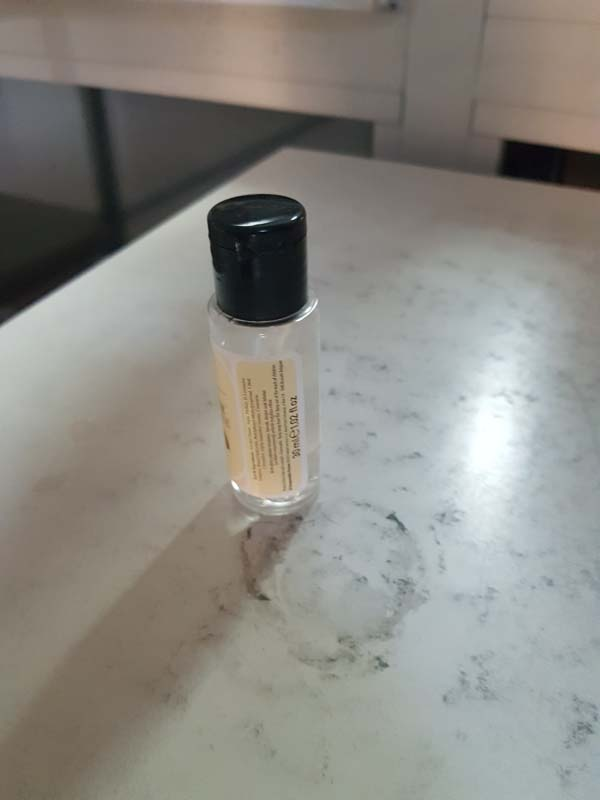redbulkolonya: (188, 192, 332, 518)
